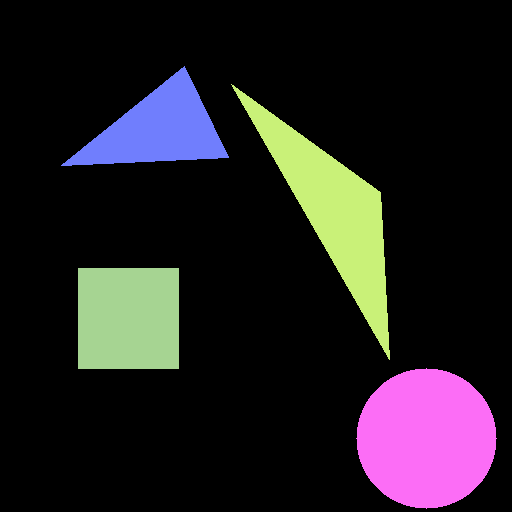circle: (356, 368, 496, 508)
square: (78, 268, 178, 368)
triangle: (231, 84, 389, 359), (61, 66, 228, 165)
